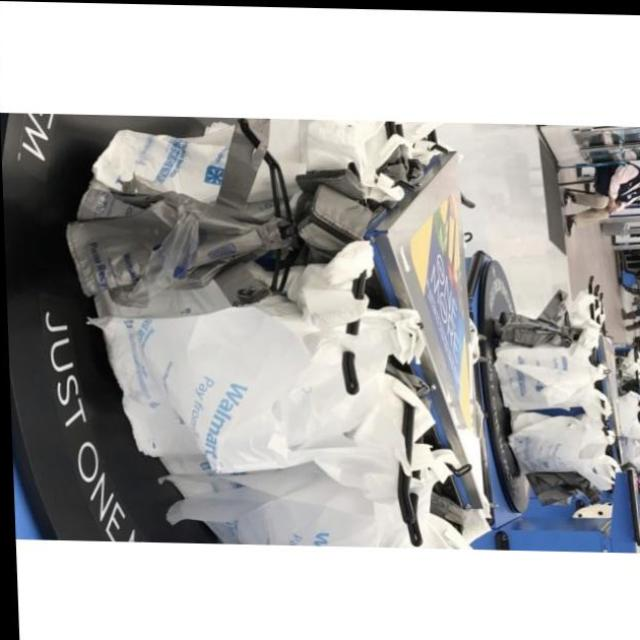plastik: (91, 299, 432, 499), (66, 197, 289, 306), (169, 464, 401, 545), (93, 121, 233, 202), (495, 328, 610, 418), (509, 412, 620, 489)
